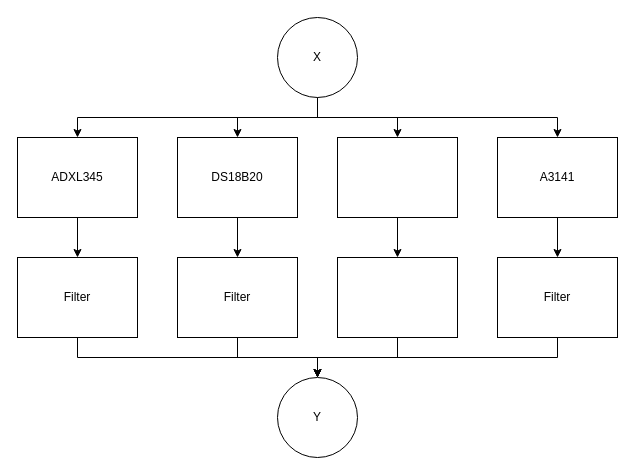
Some shapes in this 635 by 475 pixel diagram are drawn without their labels. The shapes that lost their labels are listed below. From the top down, each one's box as (x1, y1, x2, y2) in pixels, then its label:
(336, 136, 458, 218): ACS712
(336, 256, 458, 338): 3.3V to 5V Voltage Regulator
